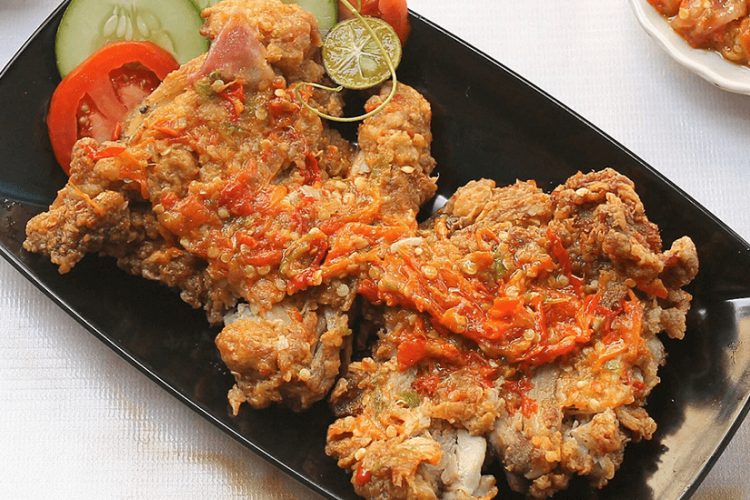ayam_geprek: (75, 16, 372, 396), (342, 184, 666, 487)
